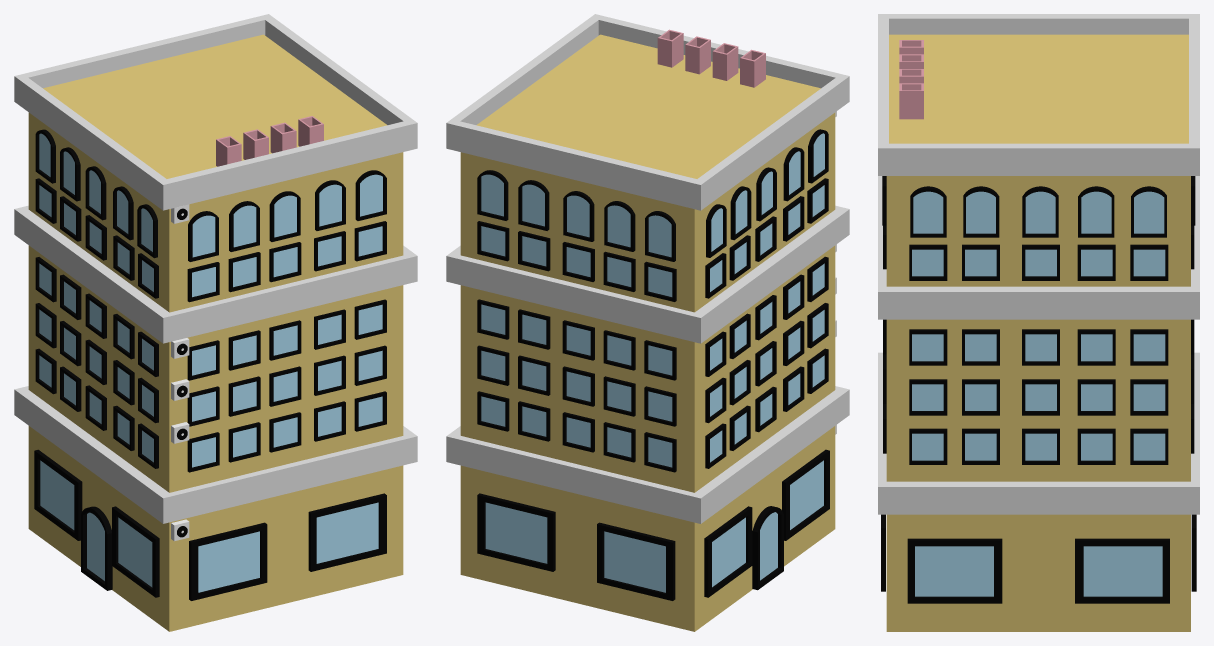
The model's file is HouseYellow.fbx.
3 renders of one model, left to right at view 1: azimuth 30°, elevation 25°; view 2: azimuth 150°, elevation 25°; view 3: azimuth 270°, elevation 25°, orthographic. The views are drawn at different scales.
Visible parts, largest first — view 1: Cube.226, Cube.223, Cube.225, Cube.224, Cube.219, Cube.221, Cube.213, Cube.196, Cube.220, Cube.212, Cube.210, Cube.211 (+29 smaller); view 2: Cube.226, Cube.223, Cube.224, Cube.225, Cube.219, Cube.221, Cube.196, Cube.213, Cube.220, Cube.214, Cube.210, Cube.211 (+29 smaller); view 3: Cube.226, Cube.223, Cube.221, Cube.225, Cube.224, Cube.208, Cube.216, Cube.218, Cube.215, Cube.222, Cube.217, Cube.209 (+11 smaller).
Part boxes in pixels (x1,y1,x2,y2): Cube.226: [28, 34, 403, 631]; Cube.223: [14, 14, 417, 210]; Cube.225: [14, 386, 417, 523]; Cube.224: [14, 205, 417, 343]; Cube.219: [189, 493, 386, 600]; Cube.221: [34, 449, 159, 597]; Cube.213: [188, 170, 386, 261]; Cube.196: [229, 180, 345, 251]; Cube.220: [81, 506, 112, 590]; Cube.212: [187, 221, 386, 302]; Cube.210: [187, 391, 386, 472]; Cube.211: [187, 299, 386, 380]; Cube.226: [460, 34, 835, 631]; Cube.223: [446, 14, 849, 210]; Cube.224: [446, 205, 849, 343]; Cube.225: [446, 386, 849, 523]; Cube.219: [477, 493, 675, 600]; Cube.221: [704, 449, 829, 597]; Cube.196: [518, 180, 635, 251]; Cube.213: [477, 170, 675, 261]; Cube.220: [752, 506, 783, 590]; Cube.214: [477, 345, 676, 426]; Cube.210: [477, 391, 676, 472]; Cube.211: [477, 299, 676, 380]; Cube.226: [886, 34, 1190, 631]; Cube.223: [878, 14, 1199, 175]; Cube.221: [907, 538, 1169, 603]; Cube.225: [878, 352, 1199, 514]; Cube.224: [878, 176, 1199, 319]; Cube.208: [963, 186, 1114, 237]; Cube.216: [910, 186, 1166, 237]; Cube.218: [909, 329, 1168, 365]; Cube.215: [909, 379, 1168, 415]; Cube.222: [909, 428, 1168, 464]; Cube.217: [909, 244, 1168, 280]; Cube.209: [962, 379, 1115, 415].
Size of the model in its own units: 1672 by 2915 by 1694.
